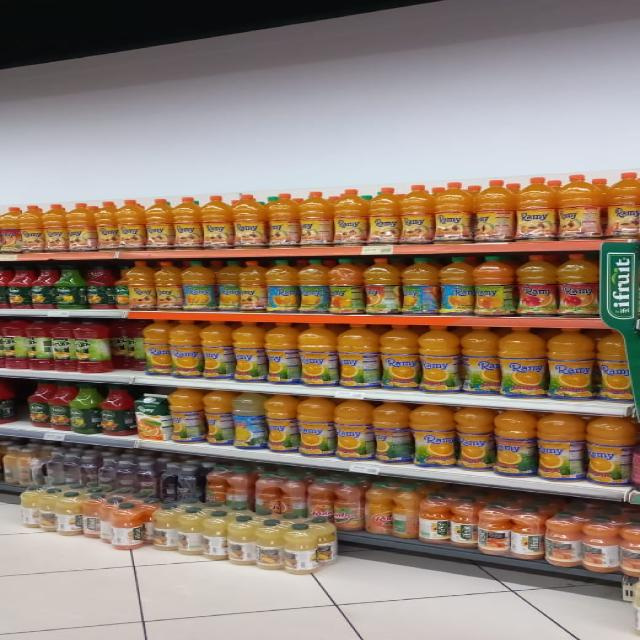ramy_carton: (131, 394, 169, 441)
ramy_plastique: (584, 415, 636, 486), (546, 328, 596, 401), (497, 326, 547, 399), (536, 412, 587, 482), (408, 404, 456, 470), (493, 410, 538, 478), (556, 173, 601, 240), (459, 325, 501, 396), (418, 325, 461, 394), (379, 324, 422, 392), (336, 323, 379, 390), (516, 176, 559, 242), (515, 254, 559, 318), (474, 178, 517, 243), (453, 407, 496, 472), (555, 252, 597, 318), (472, 255, 516, 317), (596, 329, 632, 403), (372, 400, 412, 466), (297, 323, 337, 388), (334, 398, 374, 463), (433, 181, 474, 244), (604, 172, 640, 239), (297, 396, 335, 459), (438, 256, 476, 317), (264, 322, 300, 385), (264, 394, 300, 456), (231, 392, 268, 452), (363, 258, 401, 316), (401, 258, 439, 316), (400, 184, 436, 245), (231, 322, 267, 382), (296, 191, 332, 248), (332, 190, 368, 247), (200, 320, 234, 380), (168, 387, 205, 442), (367, 188, 402, 246), (202, 389, 237, 447), (229, 194, 265, 249), (327, 259, 363, 314), (168, 320, 202, 378), (264, 193, 298, 249), (198, 194, 232, 249), (264, 260, 298, 314), (297, 259, 330, 314), (141, 318, 172, 374), (180, 261, 214, 312), (120, 261, 154, 311), (144, 198, 175, 252), (115, 199, 146, 252), (171, 196, 201, 250), (237, 260, 268, 312), (64, 202, 94, 255), (216, 260, 246, 313), (153, 260, 184, 311), (41, 203, 68, 254), (92, 203, 118, 255), (18, 202, 44, 253), (0, 207, 25, 255)
tazej_plastique: (100, 390, 134, 434), (70, 386, 100, 434), (26, 384, 54, 431), (50, 384, 77, 432)
